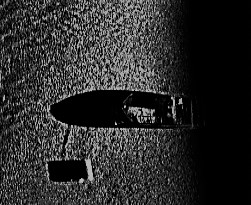ship: (118, 86, 196, 128), (76, 156, 98, 180)
